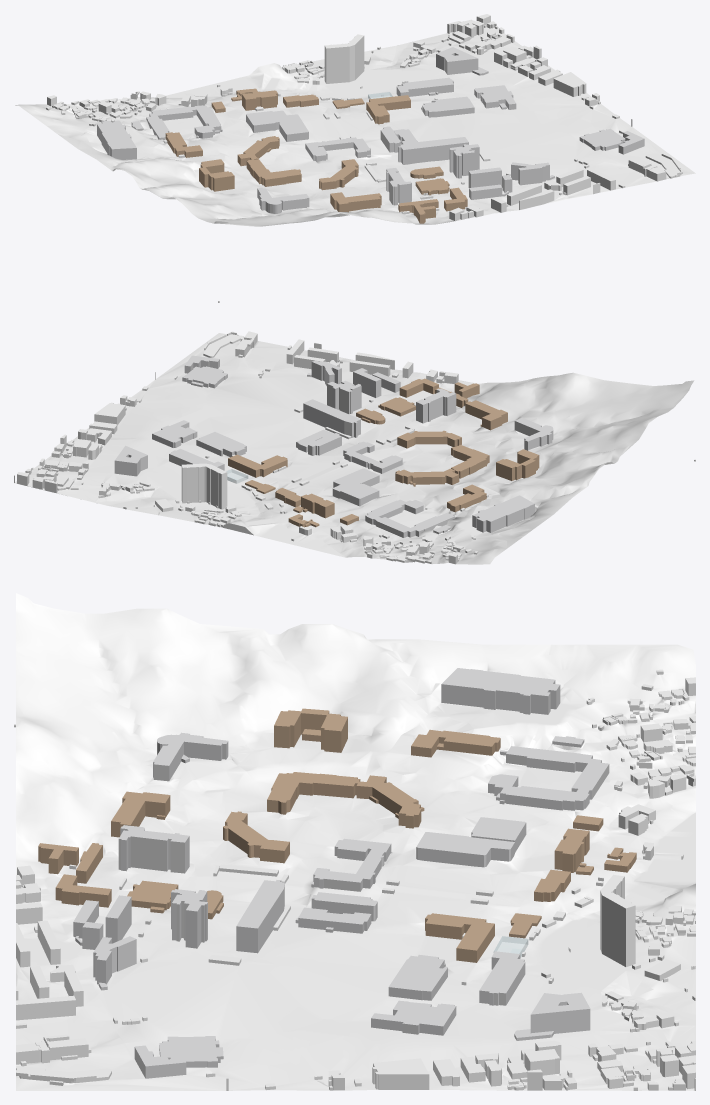
The model's file is uni.glb.
3 views of the same model, one above another, from view 1: azimuth 30°, elevation 25°; view 2: azimuth 150°, elevation 25°; view 3: azimuth 270°, elevation 25° (orthographic). The views are drawn at different scales.
Parts seen in each view (by area): view 1: Topography, 제목 없음.096, BLD_D2, BLD_A1, BLD_D4, BLD_E1, BLD_E8, BLD_B7, BLD_E5, BLD_B2, BLD_E7, BLD_B3 (+12 smaller); view 2: Topography, 제목 없음.096, BLD_D2, BLD_D4, BLD_A1, BLD_E8, BLD_E1, BLD_B4, BLD_E3, BLD_E7, BLD_E5, BLD_B2 (+16 smaller); view 3: Topography, BLD_D2, BLD_D4, 제목 없음.096, BLD_C1.001, BLD_E1, BLD_E8, BLD_E5, BLD_A1, BLD_B4, BLD_B1, BLD_B7 (+18 smaller).
Part boxes in pixels (x1,y1,x2,y2): Topography: (15,24,695,226); 제목 없음.096: (324,34,364,83); BLD_D2: (146,105,221,139); BLD_A1: (398,137,468,164); BLD_D4: (97,120,136,159); BLD_E1: (305,137,370,161); BLD_E8: (199,159,234,191); BLD_B7: (436,47,478,74); BLD_E5: (246,159,301,186); BLD_B2: (422,96,474,117); BLD_E7: (257,188,309,213); BLD_B3: (396,77,453,96); Topography: (14,333,694,564); 제목 없음.096: (181,463,227,509); BLD_D2: (365,499,454,537); BLD_D4: (472,495,534,532); BLD_A1: (303,399,360,437); BLD_E8: (496,449,539,480); BLD_E1: (343,441,402,473); BLD_B4: (228,454,287,477); BLD_E3: (395,468,459,484); BLD_E7: (514,418,553,450); BLD_E5: (451,445,489,478); BLD_B2: (196,432,246,457); Topography: (16,593,695,1090); BLD_D2: (488,746,609,810); BLD_D4: (441,668,560,714); 제목 없음.096: (600,874,635,966); BLD_C1.001: (416,832,514,867); BLD_E1: (313,838,391,891); BLD_E8: (274,708,347,752); BLD_E5: (267,772,360,814); BLD_A1: (236,880,284,953); BLD_B4: (425,913,494,962); BLD_B1: (371,1000,456,1035); BLD_B7: (530,992,590,1033).
Size of the model in its own units: 500 by 81.16 by 374.
